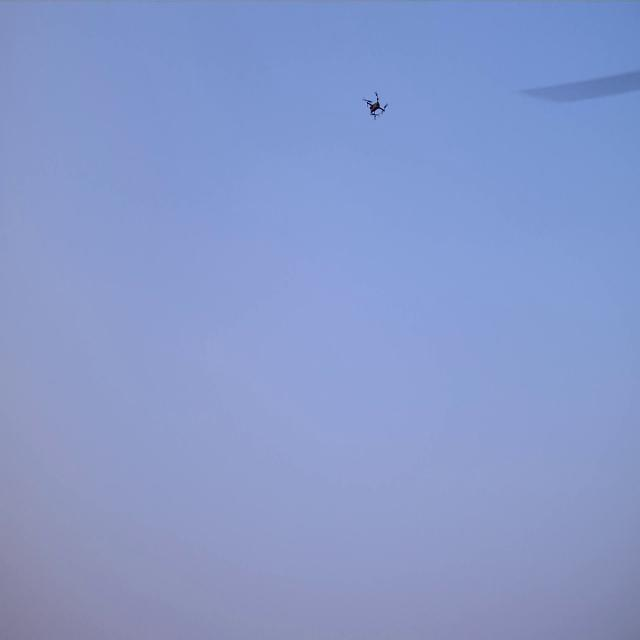UAV: (361, 89, 388, 123)
